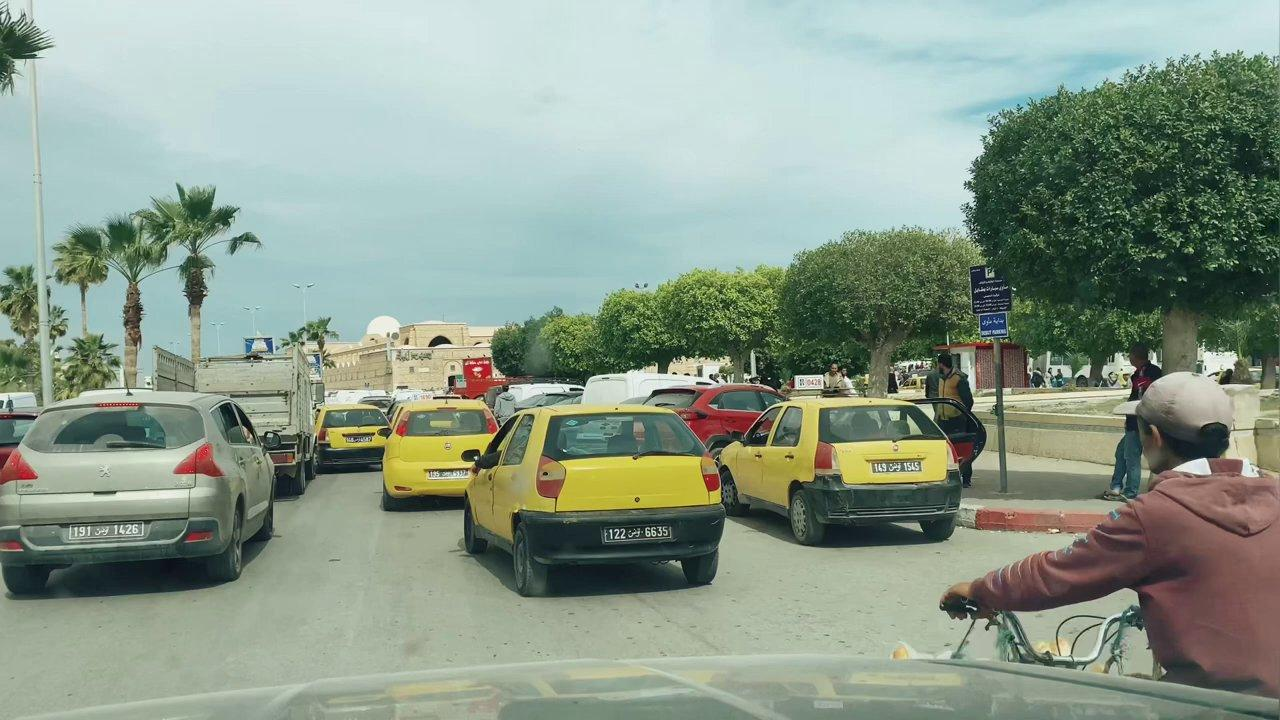pay parking zone: (966, 265, 1014, 314)
